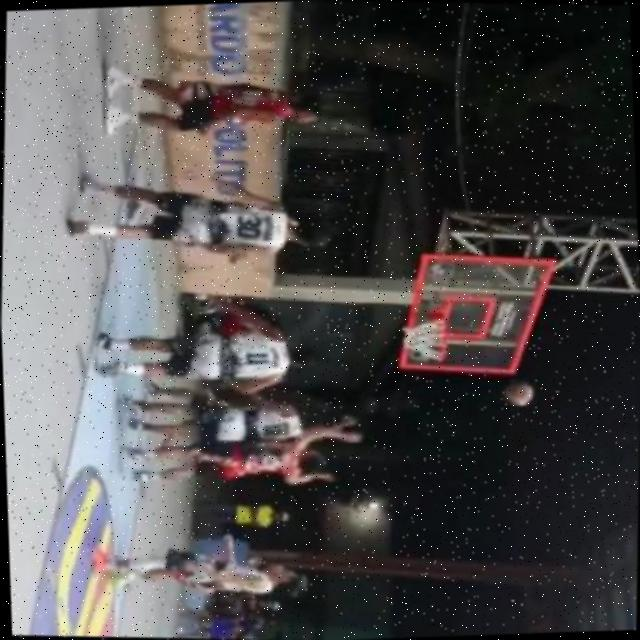ball: (497, 378, 539, 411)
hoop: (431, 318, 455, 363)
